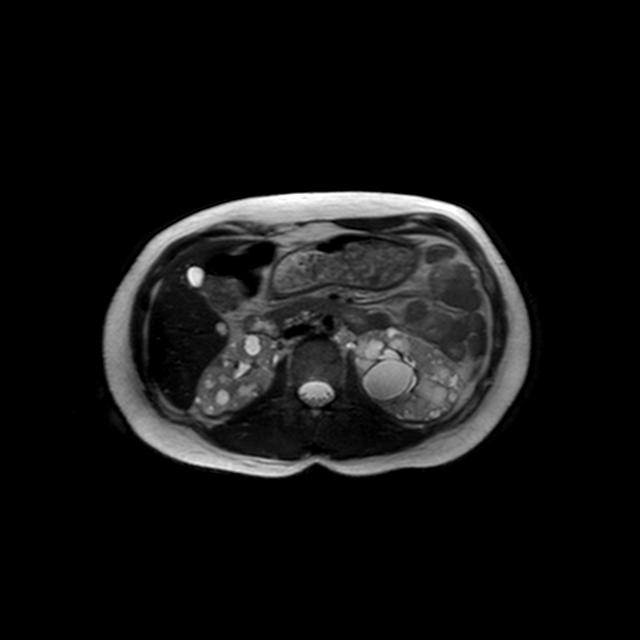sag: (194, 331, 284, 419)
sol: (348, 325, 466, 423)
